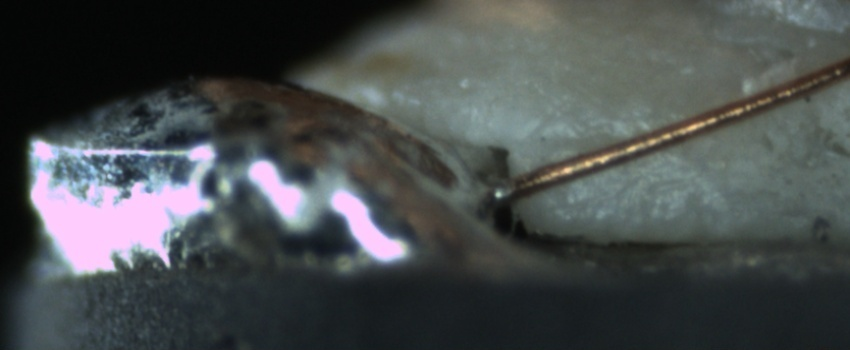DL: (529, 109, 670, 168)
